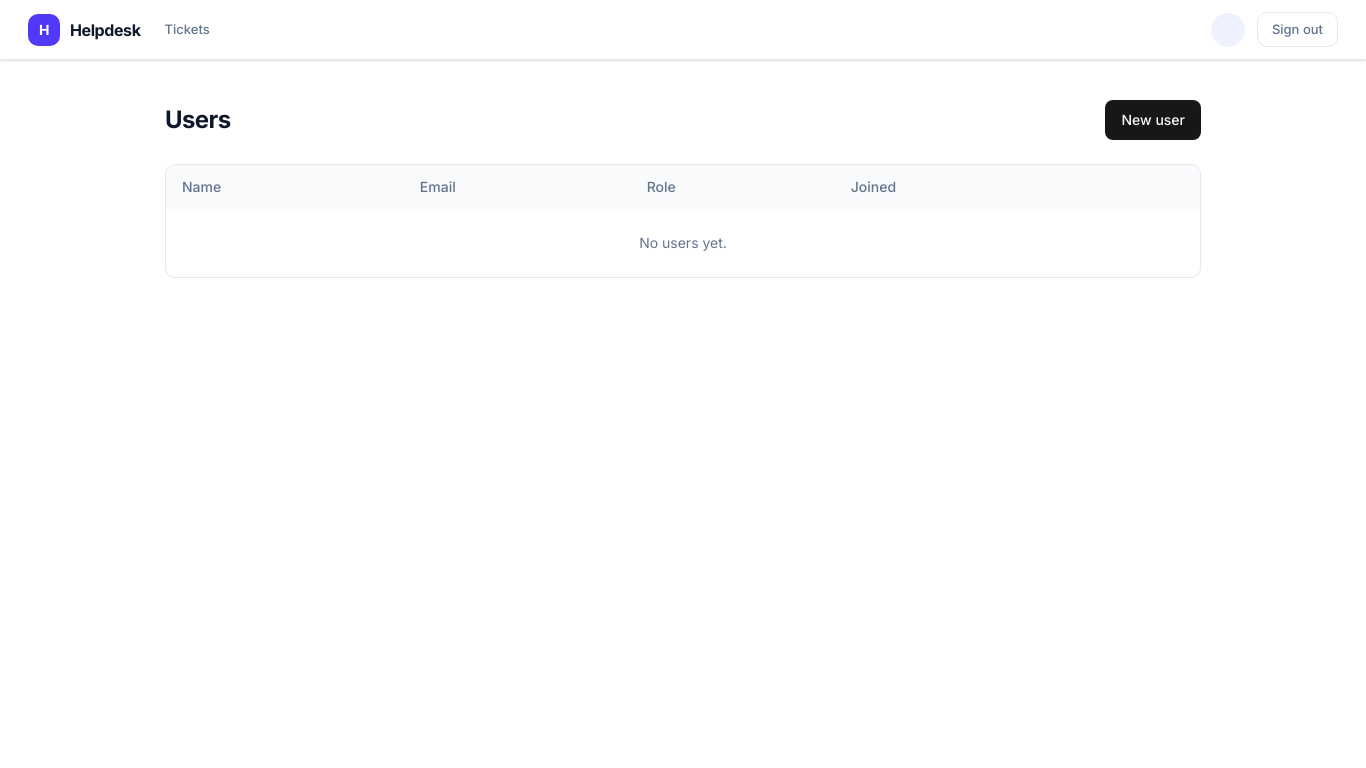
it: UsersPage › hides the create-user dialog when pressing Escape
Check: the text "No users yet." is shown, box [639, 234, 727, 251]
Click the button "New user" at (1153, 120), box [1106, 100, 1201, 140]
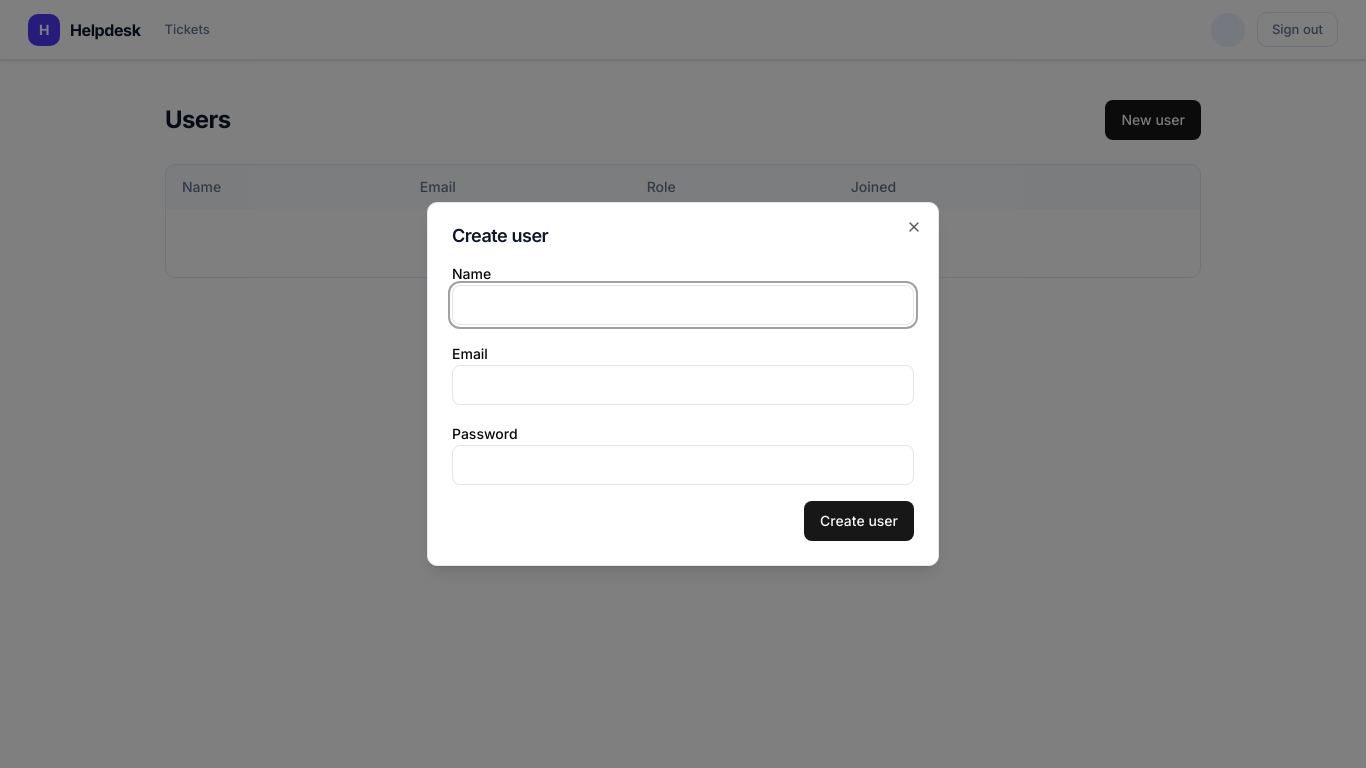
Check: the dialog is shown, box [427, 202, 939, 566]
Press Escape
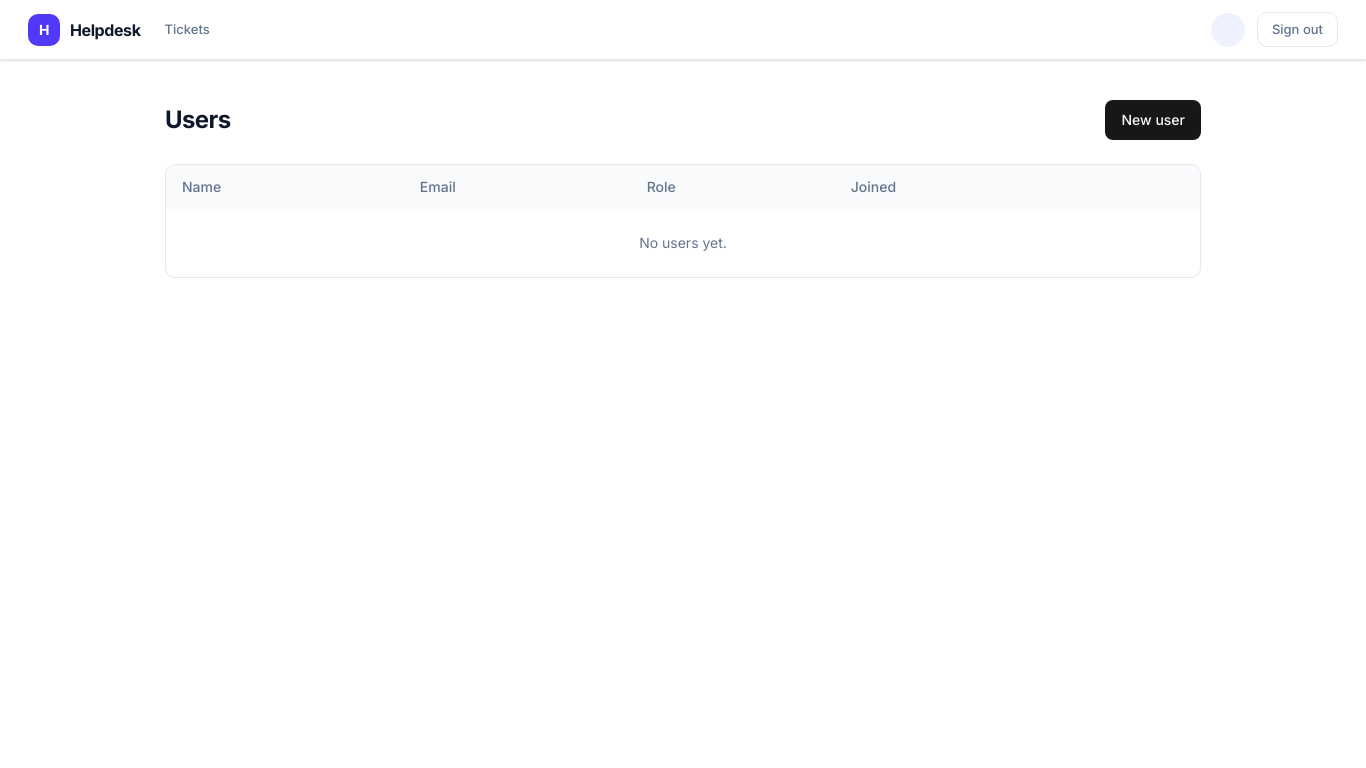
Check: the dialog is gone
